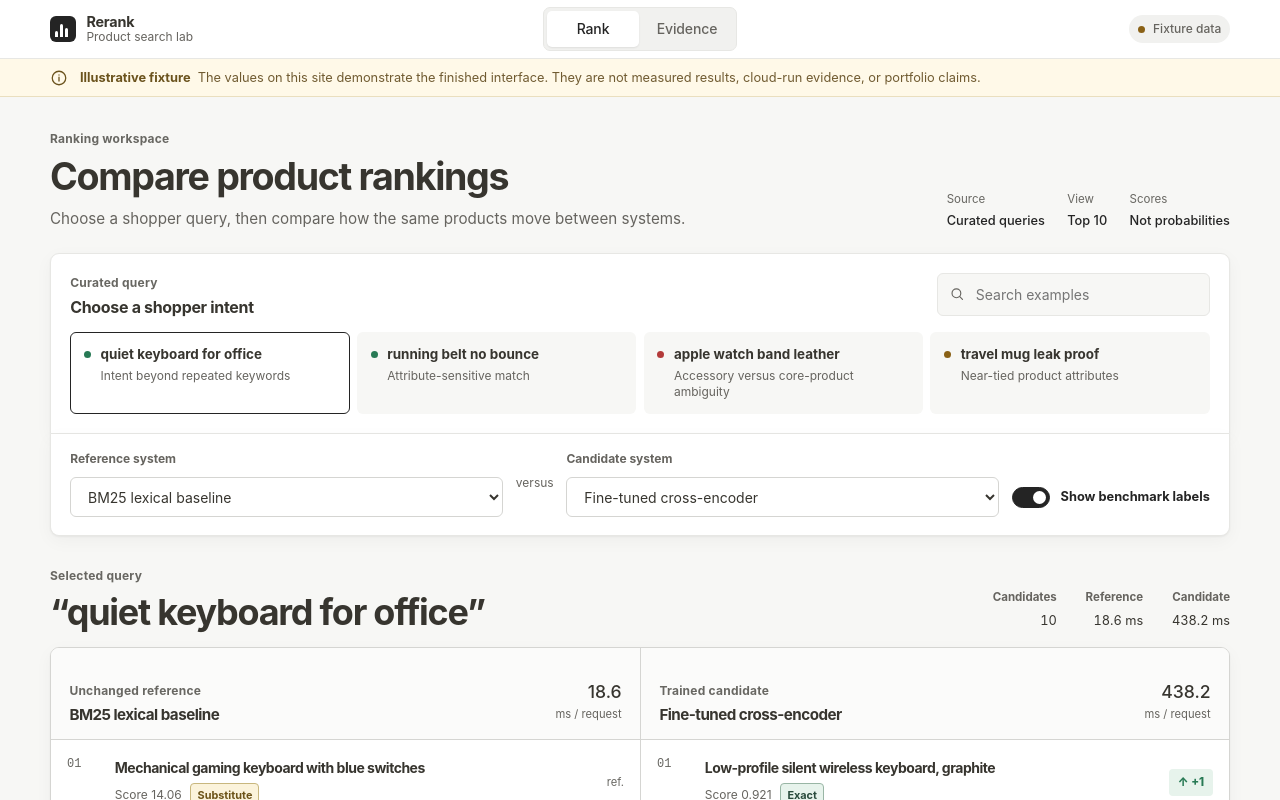
Test: query comparison › keeps distinct order, scores, and latency attached to each reference fixture
Select "Unchanged cross-encoder" in the dropdown labelled "Reference system" at (287, 497), box [70, 477, 503, 517]
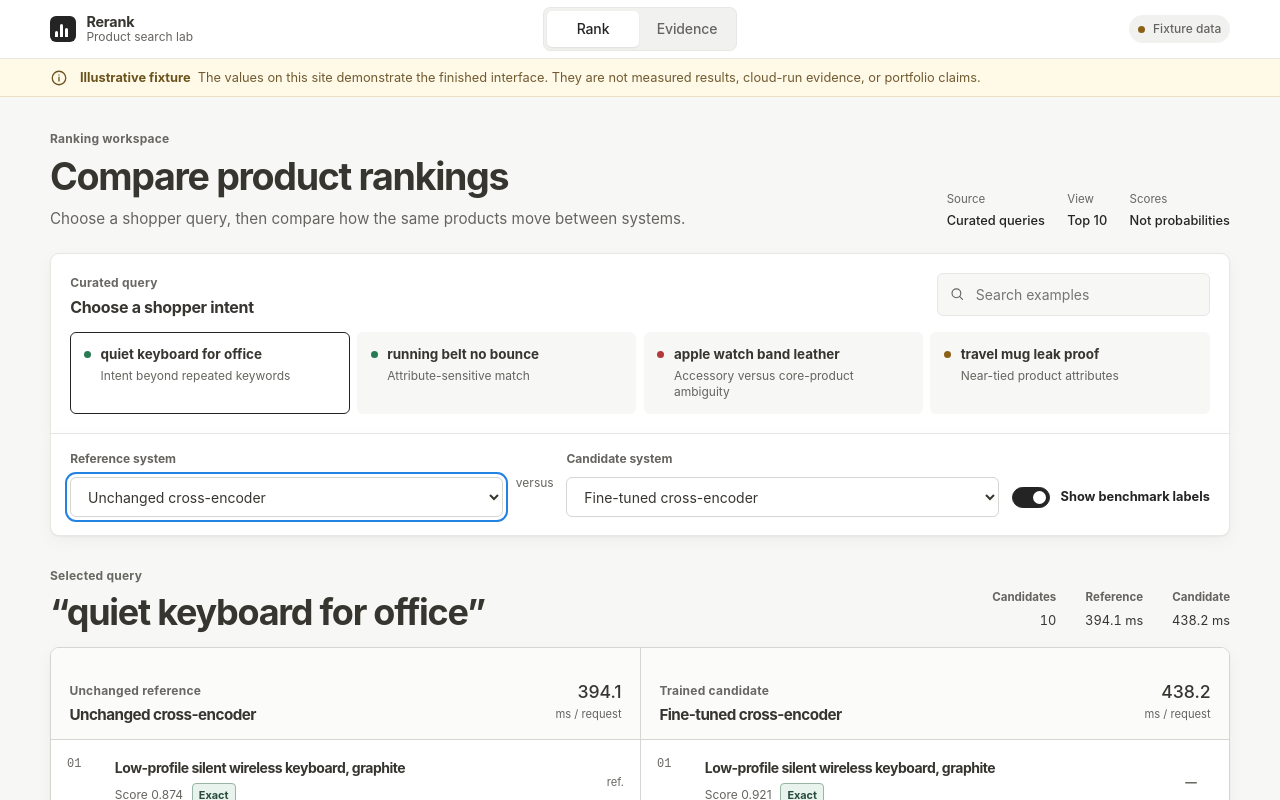
Now the 1st list item shows "Low-profile silent wireless keyboard", box [115, 759, 405, 776]
Now the text "394.1" is shown, box [578, 681, 622, 702]
